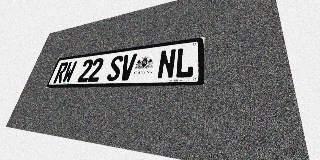2: (87, 57, 105, 82), (77, 59, 94, 82)
L: (174, 46, 195, 79)
N: (157, 49, 176, 79)
R: (53, 62, 69, 83)
S: (106, 55, 124, 81)
V: (119, 53, 137, 81)
W: (61, 61, 78, 83)
